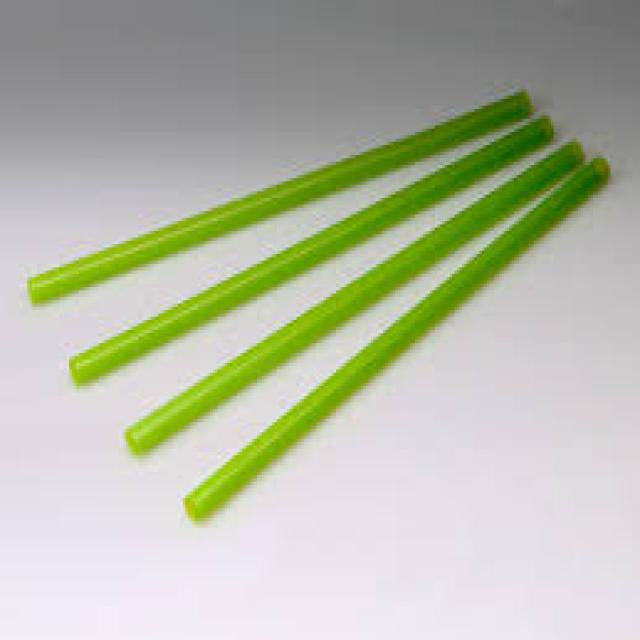straw: (29, 90, 553, 385), (187, 159, 609, 518), (125, 149, 581, 453)
